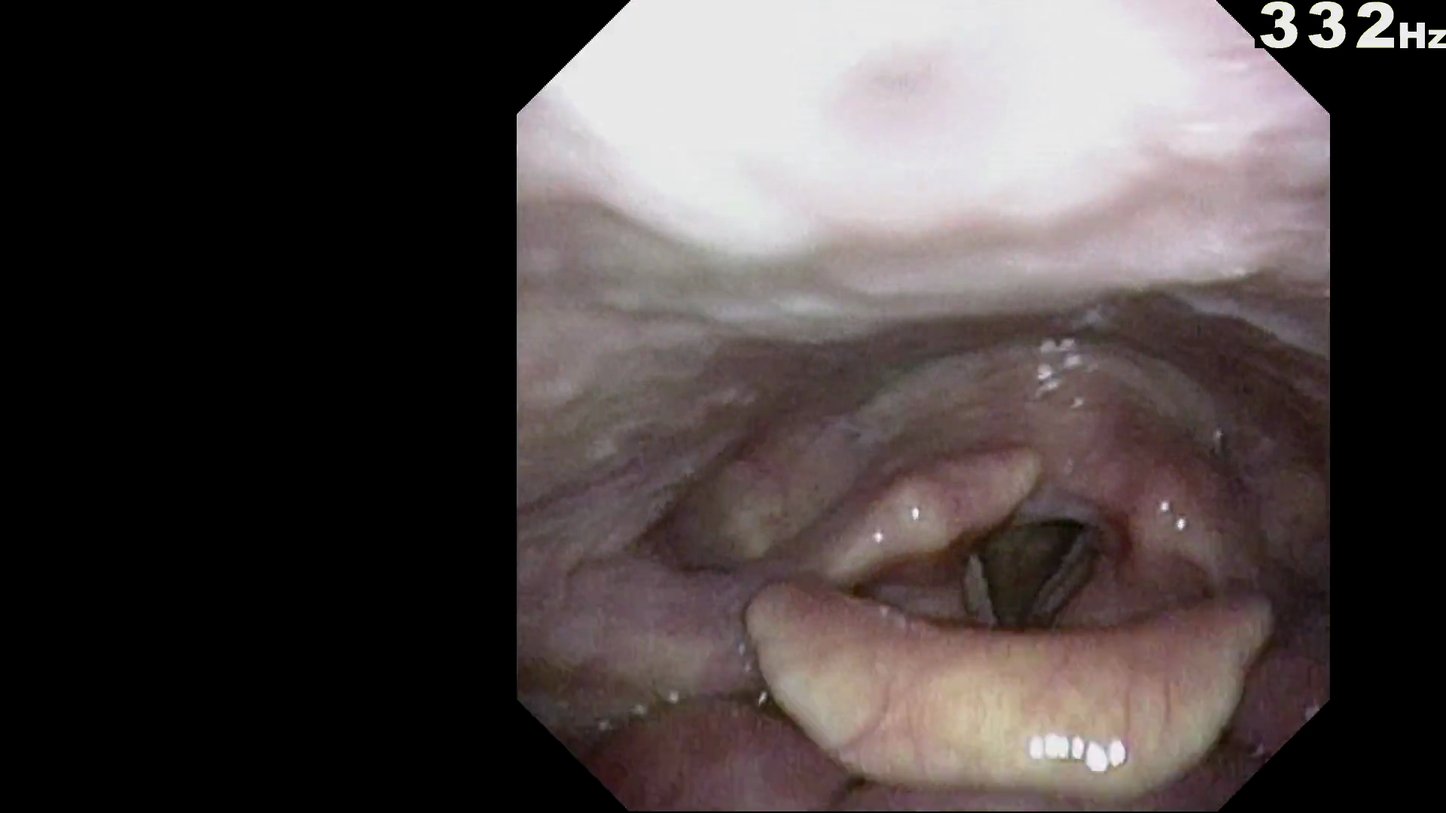epiglottis: (671, 573, 1213, 712)
trachea: (942, 498, 1096, 599)
